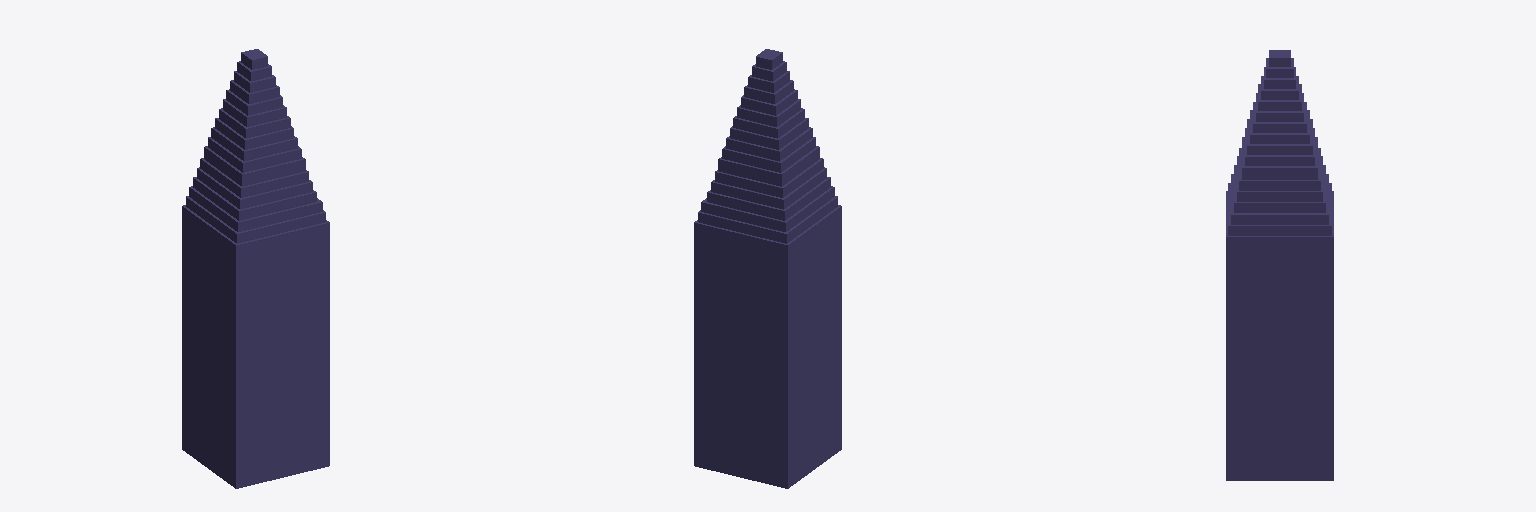
The picture shows the model from 3 angles: view 1: azimuth 30°, elevation 25°; view 2: azimuth 150°, elevation 25°; view 3: azimuth 270°, elevation 25°; orthographic projection.
Visible parts, largest first — view 1: object 1; view 2: object 1; view 3: object 1.
Part boxes in pixels (bbox=[...]): object 1: bbox=[182, 49, 329, 488]; object 1: bbox=[694, 49, 841, 488]; object 1: bbox=[1226, 50, 1333, 480].
Size of the model in its own units: 4 by 16.4 by 4.
Materials: 1 (1 with a texture image).